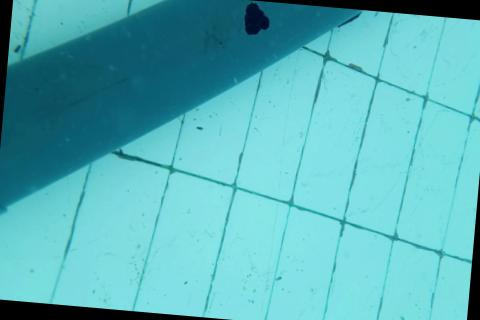kebocoran: (242, 1, 273, 37)
